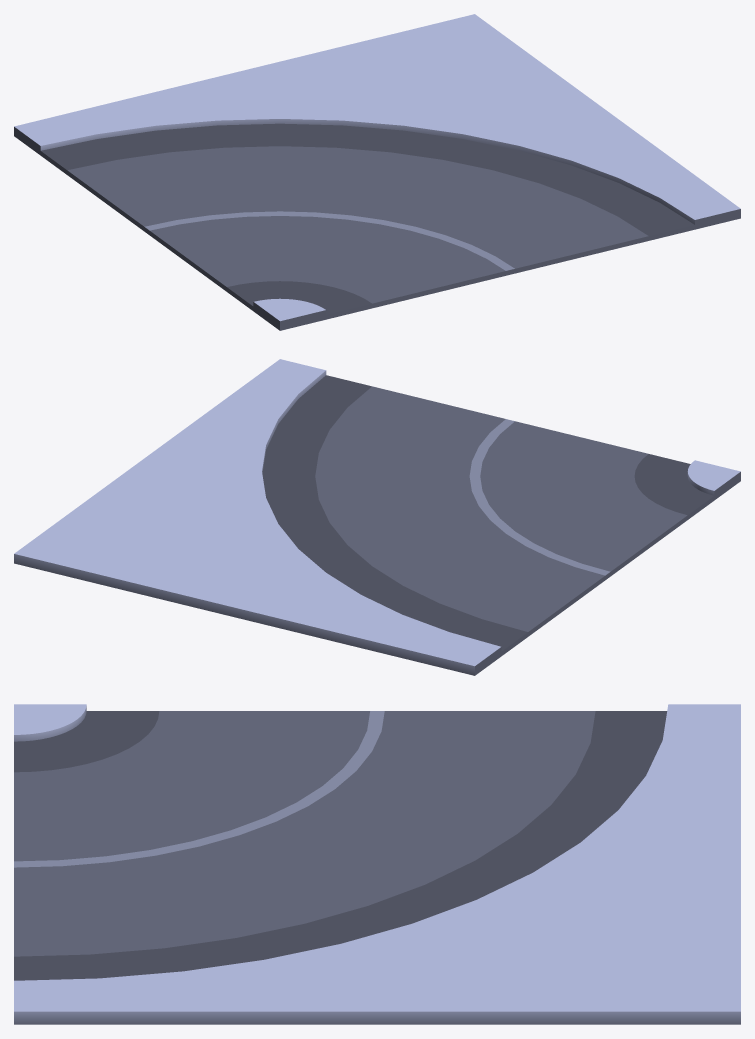
Rendered from road-corner.glb.
The picture shows the model from 3 angles, top to bottom: view 1: azimuth 30°, elevation 25°; view 2: azimuth 150°, elevation 25°; view 3: azimuth 270°, elevation 25°; orthographic projection. The views are drawn at different scales.
Parts seen in each view (by area): view 1: road-bend-sidewalk; view 2: road-bend-sidewalk; view 3: road-bend-sidewalk.
Part boxes in pixels (bbox=[...]): road-bend-sidewalk: bbox=[14, 14, 740, 330]; road-bend-sidewalk: bbox=[14, 359, 740, 675]; road-bend-sidewalk: bbox=[14, 704, 740, 1024].
Size of the model in its own units: 1 by 0.02 by 1.
Materials: 1 (1 with a texture image).
